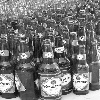beer: (34, 39, 64, 96)
